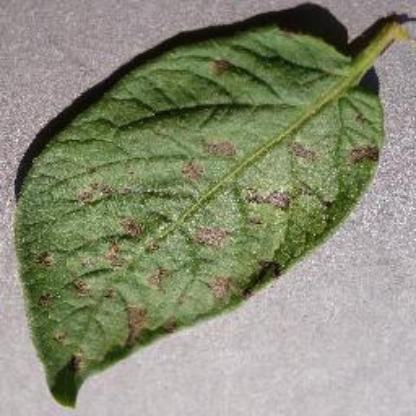Early-Blight: (12, 11, 402, 405)
